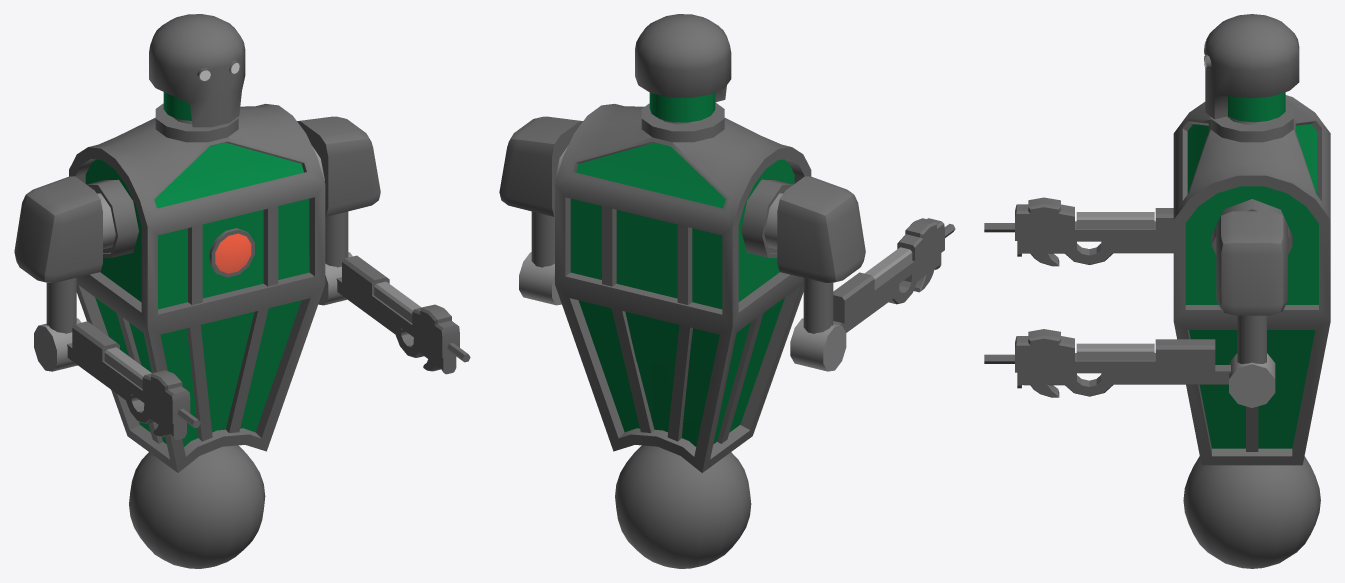
The model's file is robot_gun.fbx.
The picture shows the model from 3 angles, left to right: view 1: azimuth 30°, elevation 25°; view 2: azimuth 150°, elevation 25°; view 3: azimuth 270°, elevation 25°; orthographic projection.
Parts seen in each view (by area): view 1: Corps_high, Bras (×2), Spehre_high, gun (×2), tete_high, barreaux_high, Coude (×2); view 2: Corps_high, Bras (×2), Spehre_high, tete_high, barreaux_high, gun, Coude (×2); view 3: Corps_high, gun (×2), Spehre_high, tete_high, Bras, Coude, barreaux_high.
Part boxes in pixels (left/top/right/bottom): Corps_high: left=69, top=103, right=325, bottom=472; Bras (×2): left=14, top=116, right=380, bottom=333; Spehre_high: left=129, top=445, right=265, bottom=568; gun (×2): left=67, top=255, right=459, bottom=439; tete_high: left=149, top=14, right=245, bottom=127; barreaux_high: left=116, top=206, right=278, bottom=443; Coude (×2): left=34, top=252, right=352, bottom=371; Corps_high: left=555, top=102, right=811, bottom=472; Bras (×2): left=499, top=116, right=865, bottom=333; Spehre_high: left=615, top=445, right=751, bottom=568; tete_high: left=635, top=14, right=731, bottom=122; barreaux_high: left=602, top=206, right=763, bottom=443; gun: left=833, top=218, right=944, bottom=332; Coude (×2): left=519, top=252, right=846, bottom=371; Corps_high: left=1173, top=95, right=1330, bottom=465; gun (×2): left=1015, top=197, right=1230, bottom=397; Spehre_high: left=1183, top=456, right=1320, bottom=568; tete_high: left=1205, top=14, right=1299, bottom=122; Bras: left=1216, top=211, right=1287, bottom=363; Coude: left=1229, top=353, right=1275, bottom=407; barreaux_high: left=1246, top=406, right=1258, bottom=451.
Size of the model in its own units: 3.27 by 4.93 by 2.86.
